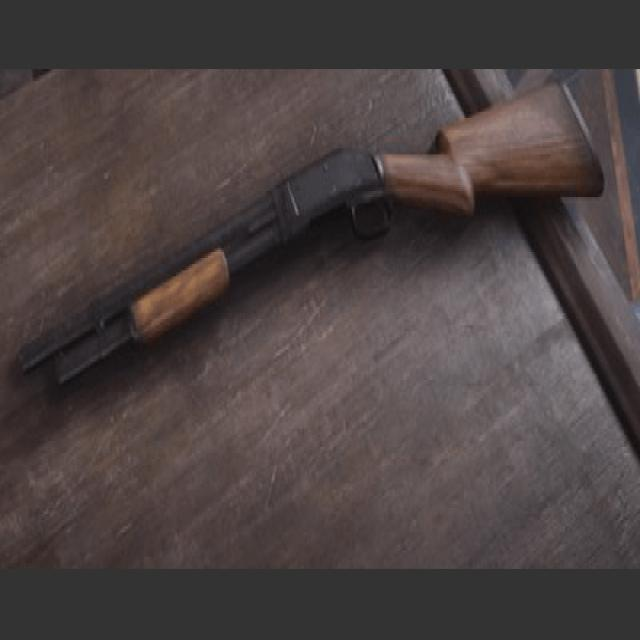ShotGun: (19, 89, 604, 386)
